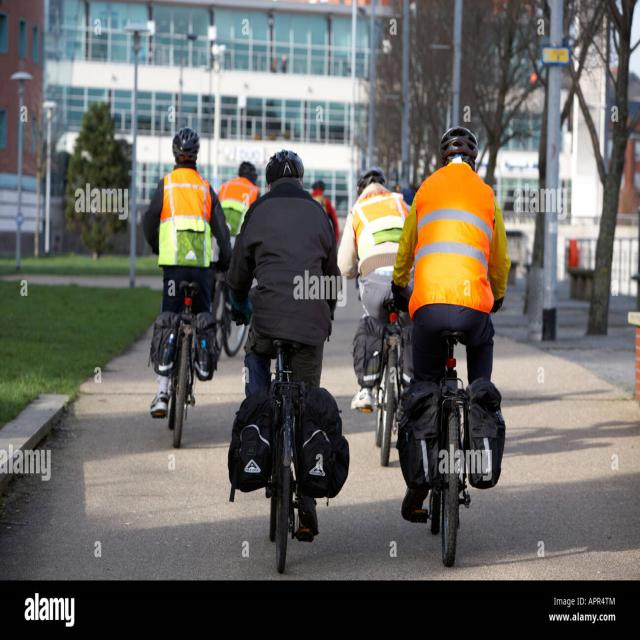Reflective-Jacket: (408, 164, 499, 315), (154, 166, 216, 273), (350, 184, 408, 286), (216, 173, 260, 253)
